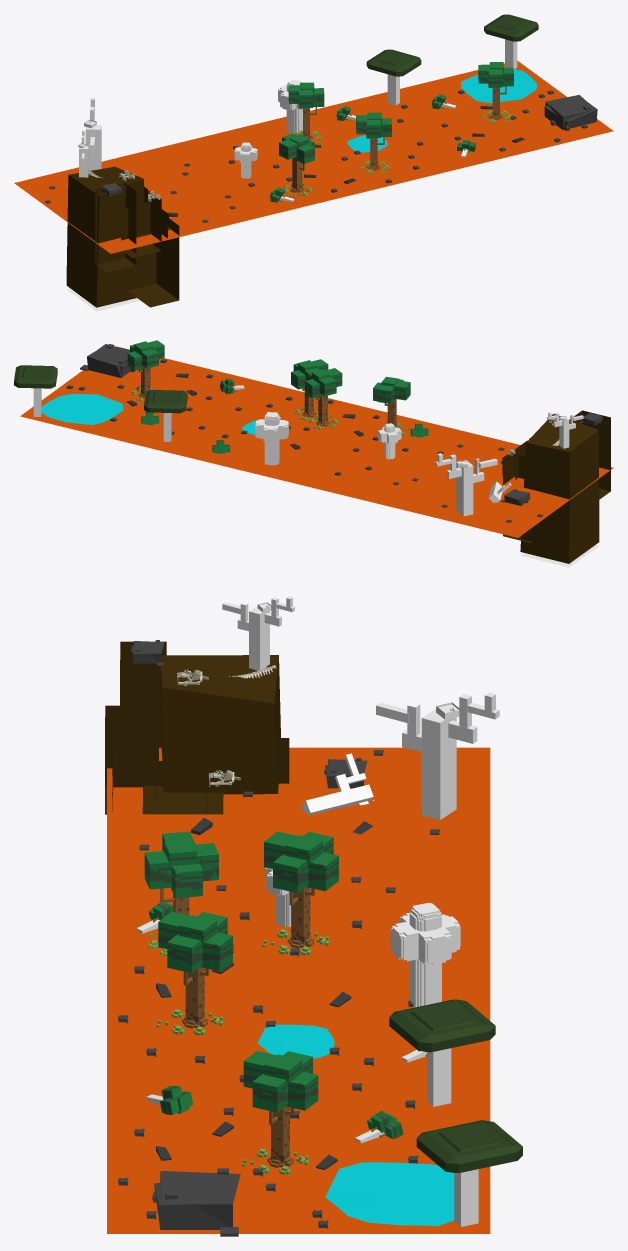
The model's file is centerchunks.glb.
3 views of the same model, one above another, from view 1: azimuth 30°, elevation 25°; view 2: azimuth 150°, elevation 25°; view 3: azimuth 270°, elevation 25° (orthographic). The views are drawn at different scales.
Parts seen in each view (by area): view 1: Mountain.005, C, MR, ML, Cube.205, TREE 02.001, pond.001, TREE 02.002, TREE 02.009, TREE 02.006, Cube.201, Cube.203 (+4 smaller); view 2: C, MR, ML, Mountain.005, pond.001, Cube.154, TREE 02.006, TREE 02.002, Object_3.001, Cube.205, TREE 02.001, Cube.203 (+6 smaller); view 3: C, ML, MR, Mountain.005, pond.001, Cube.154, TREE 02.009, TREE 02.006, TREE 02.002, Cube.205, Object_3.001, TREE 02.001 (+9 smaller).
Part boxes in pixels (<box>): Mountain.005: <box>66,166,179,307</box>; C: <box>182,101,445,212</box>; MR: <box>350,60,613,171</box>; ML: <box>14,142,277,253</box>; Cube.205: <box>544,95,597,130</box>; TREE 02.001: <box>279,133,314,198</box>; pond.001: <box>461,69,537,103</box>; TREE 02.002: <box>478,62,513,123</box>; TREE 02.009: <box>356,112,391,174</box>; TREE 02.006: <box>288,82,324,144</box>; Cube.201: <box>366,49,421,76</box>; Cube.203: <box>484,14,538,41</box>; C: <box>186,387,447,497</box>; MR: <box>20,346,281,456</box>; ML: <box>352,427,613,537</box>; Mountain.005: <box>502,410,610,563</box>; pond.001: <box>41,393,123,424</box>; Cube.154: <box>435,453,497,516</box>; TREE 02.006: <box>305,368,342,429</box>; TREE 02.002: <box>127,340,164,401</box>; Object_3.001: <box>255,412,288,465</box>; Cube.205: <box>80,344,135,377</box>; TREE 02.001: <box>373,376,410,435</box>; Cube.203: <box>14,365,57,388</box>; C: <box>107,910,490,1071</box>; ML: <box>107,747,490,909</box>; MR: <box>107,1072,490,1233</box>; Mountain.005: <box>105,641,289,815</box>; pond.001: <box>325,1162,454,1225</box>; Cube.154: <box>376,692,499,819</box>; TREE 02.009: <box>156,911,232,1035</box>; TREE 02.006: <box>262,831,338,955</box>; TREE 02.002: <box>242,1051,318,1174</box>; Cube.205: <box>152,1168,240,1236</box>; Object_3.001: <box>390,902,460,1007</box>; TREE 02.001: <box>144,831,218,956</box>.
Bounding box in the file's own units: 678 × 192 × 241.
Materials: 36 (7 with a texture image).
